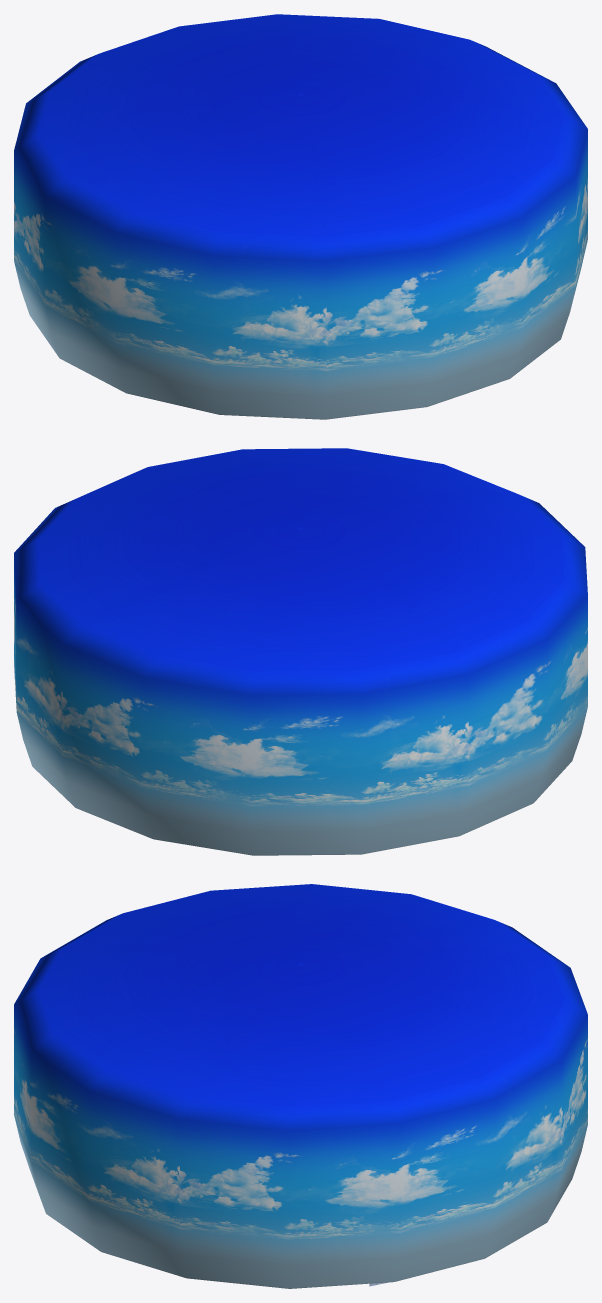
File: stage.glb
3 views of the same model, one above another, from view 1: azimuth 30°, elevation 25°; view 2: azimuth 150°, elevation 25°; view 3: azimuth 270°, elevation 25° (orthographic).
Parts seen in each view (by area): view 1: KORE_export_far_geo_base_01; view 2: KORE_export_far_geo_base_01; view 3: KORE_export_far_geo_base_01.
Boxes of the visible parts, <box> form: KORE_export_far_geo_base_01: <box>14,14,587,419</box>; KORE_export_far_geo_base_01: <box>14,448,587,855</box>; KORE_export_far_geo_base_01: <box>14,884,587,1288</box>.
Bounding box in the file's own units: 18 × 7.48 × 18.
4 materials, 4 textured.
